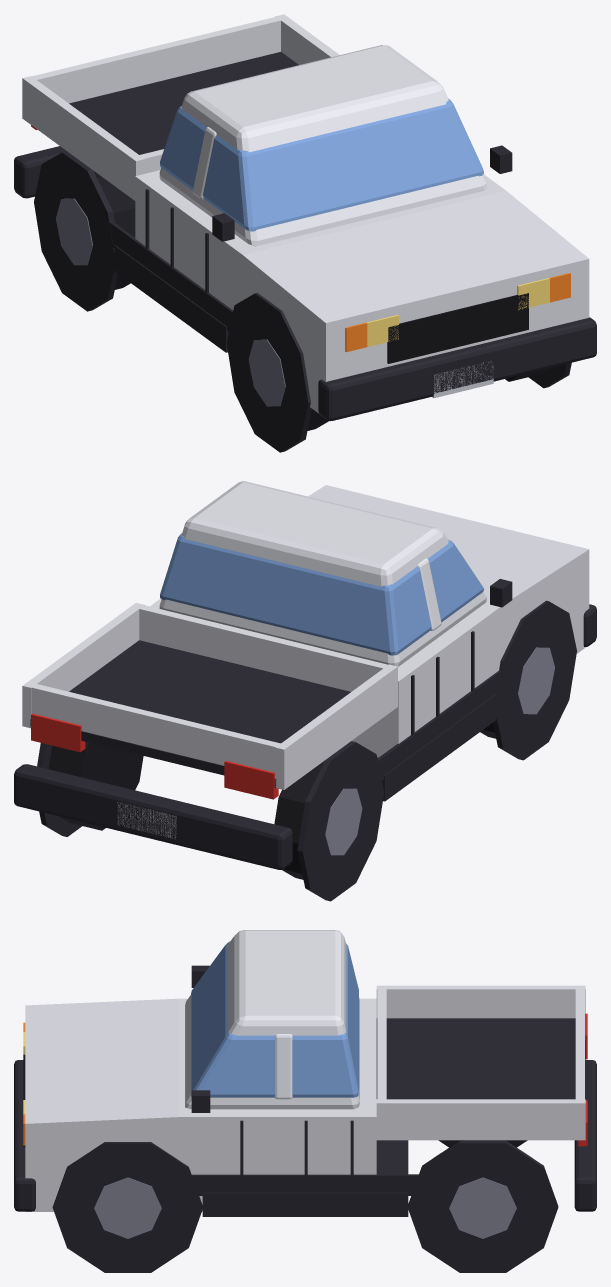
The model's file is pickup.glb.
The picture shows the model from 3 angles, top to bottom: view 1: azimuth 30°, elevation 25°; view 2: azimuth 150°, elevation 25°; view 3: azimuth 270°, elevation 25°; orthographic projection. The views are drawn at different scales.
Visible parts, largest first — view 1: Pickup; view 2: Pickup; view 3: Pickup.
Part boxes in pixels (left/top/right/bottom): Pickup: left=14, top=14, right=596, bottom=452; Pickup: left=14, top=481, right=596, bottom=901; Pickup: left=14, top=930, right=596, bottom=1272.
Size of the model in its own units: 1.65 by 1.41 by 3.12.
1 material, 1 textured.
